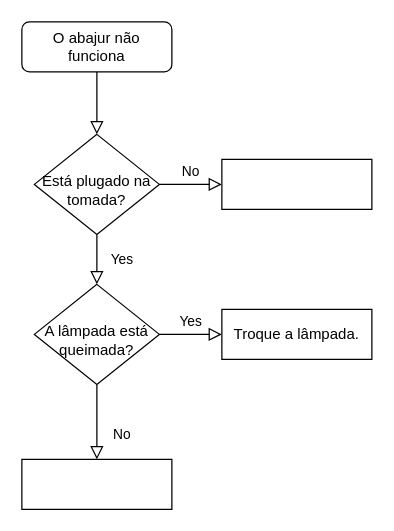
This 394x531 diagram has some shape labels left out. Here are the shapes that lost their labels. From the top down, the centre of each, then its label:
At (x=296, y=183): "Ligue o abajur na tomada.".
At (x=96, y=483): "Envie o abajur para menutenção.".
